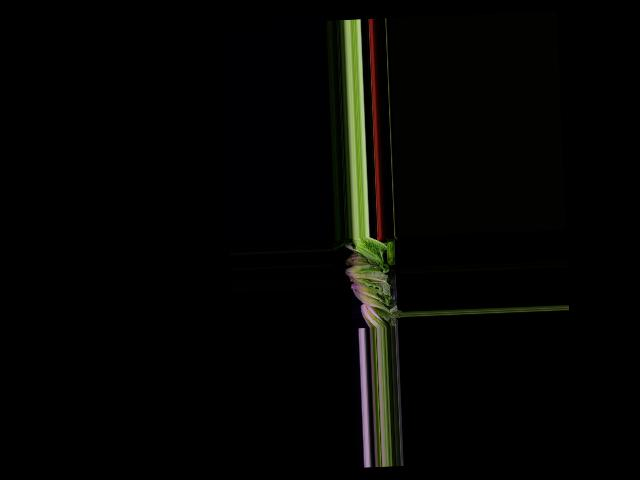lettuce: (359, 300, 389, 328)
